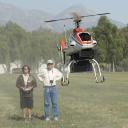helicopter: (42, 11, 118, 85)
